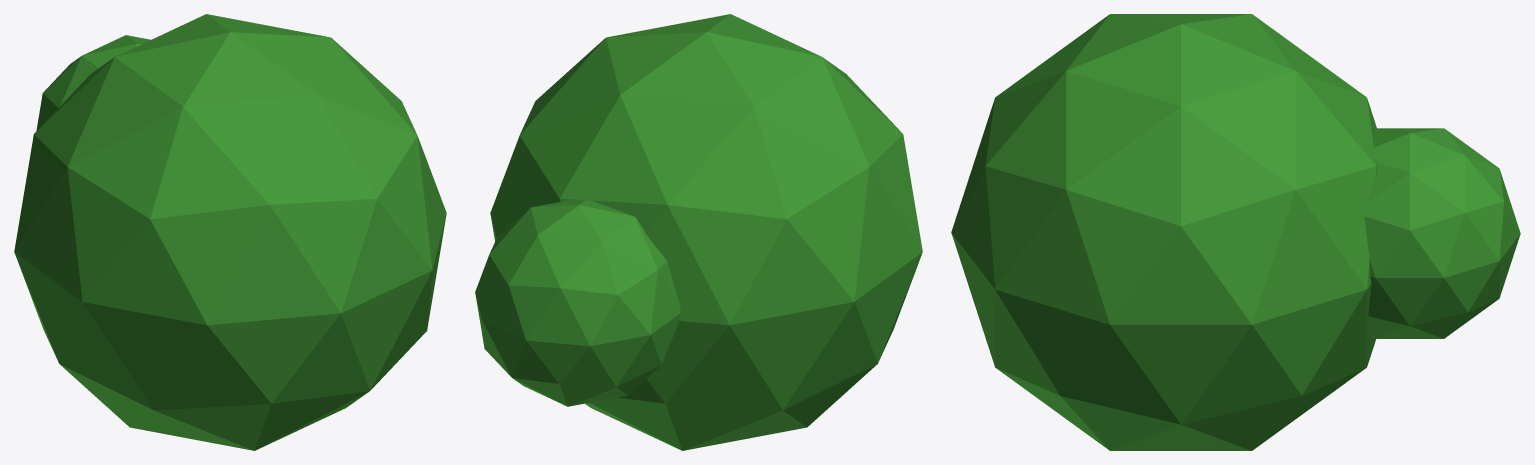
File: bush.gltf
3 views of the same model, side by side, from view 1: azimuth 30°, elevation 25°; view 2: azimuth 150°, elevation 25°; view 3: azimuth 270°, elevation 25° (orthographic). The views are drawn at different scales.
Visible parts, largest first — view 1: Icosphere.025, Icosphere.024; view 2: Icosphere.025, Icosphere.024; view 3: Icosphere.025, Icosphere.024.
Boxes of the visible parts, bbox=[...] form: Icosphere.025: bbox=[14, 14, 446, 450]; Icosphere.024: bbox=[36, 35, 150, 130]; Icosphere.025: bbox=[490, 14, 922, 450]; Icosphere.024: bbox=[475, 199, 680, 406]; Icosphere.025: bbox=[951, 14, 1377, 450]; Icosphere.024: bbox=[1364, 128, 1520, 338].
Size of the model in its own units: 3.22 by 3.39 by 4.2.
